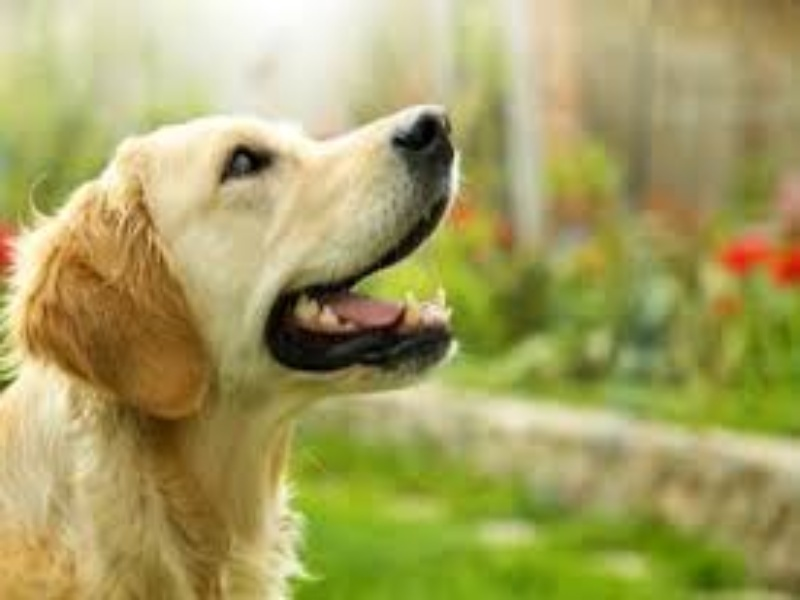dog: (14, 60, 548, 570)
